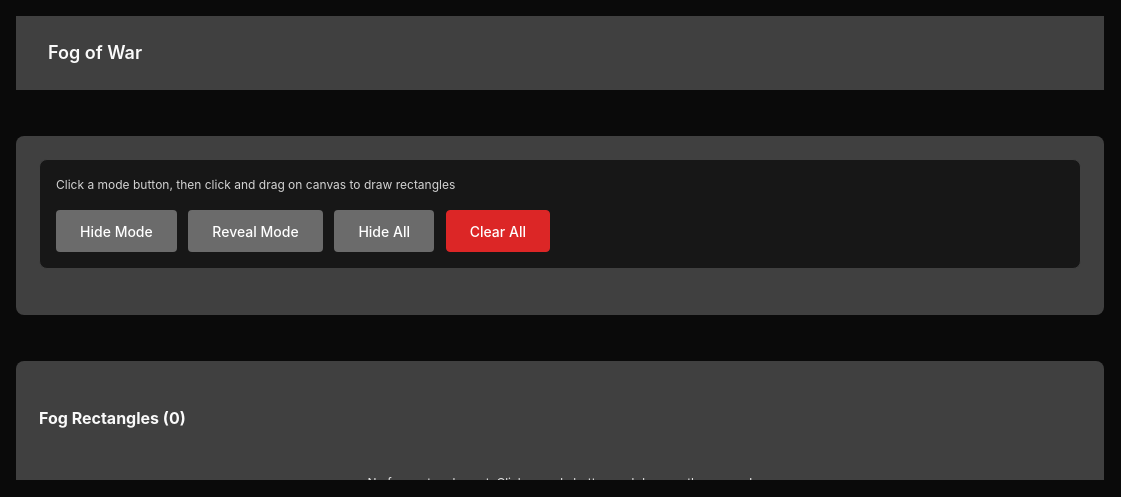
Test: FogPanel — mode toggle › clicking Hide Mode shows Hide Mode Active banner
Click the button titled "draw fog hide rectangles" at (116, 231), box [56,210,177,252]
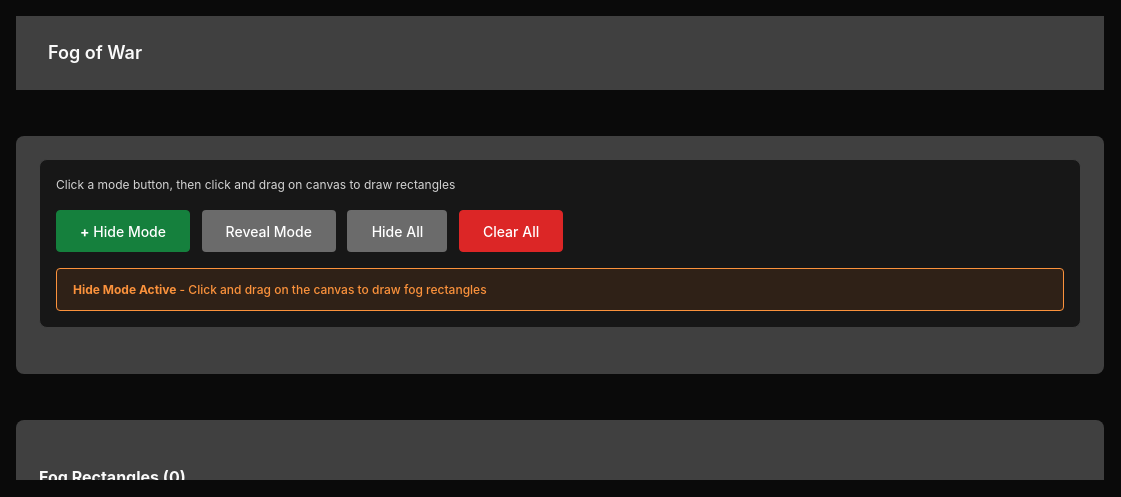
Check: the text "Hide Mode Active" is shown, box [73,282,176,297]
